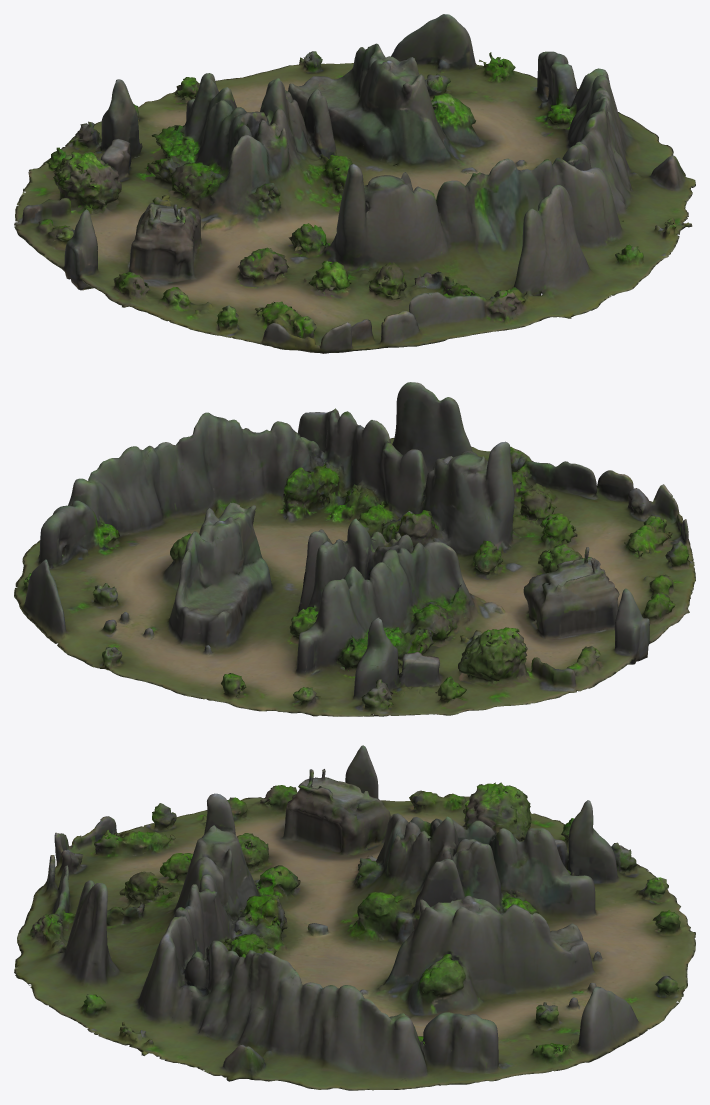
File: Meshy_AI_Mountain_Fortress_Pat_0319011153_texture.glb
The picture shows the model from 3 angles, top to bottom: view 1: azimuth 30°, elevation 25°; view 2: azimuth 150°, elevation 25°; view 3: azimuth 270°, elevation 25°; orthographic projection. The views are drawn at different scales.
Bounding box in the file's own units: 2 × 0.3964 × 1.97.
Materials: 1 (1 with a texture image).
